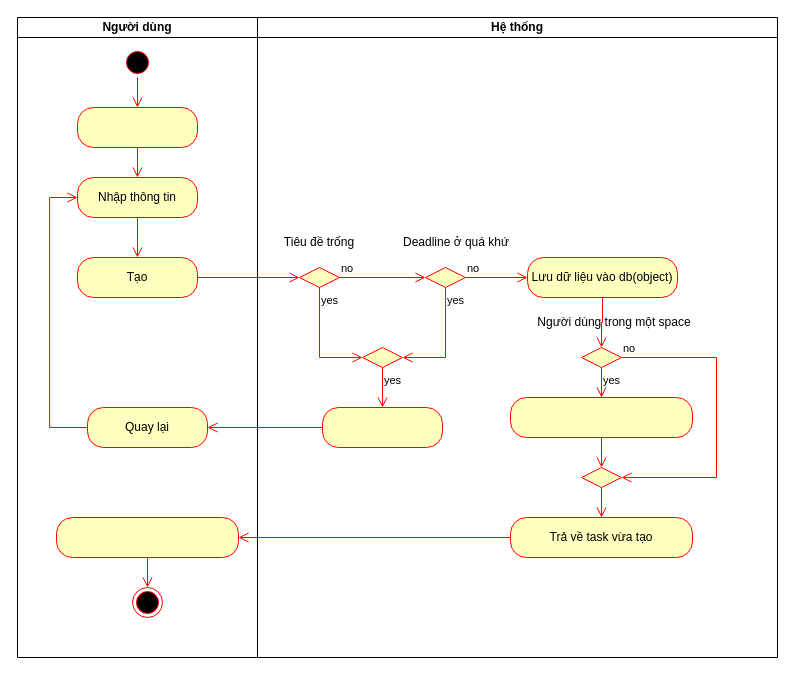
The diagram is 795 pixels wide and 675 high, and some of its shapes have lost their labels. The shapes that lost their labels are listed below. From the top down, each one's box as (x1, y1, x2, y2) in pixels, then its label:
(76, 106, 198, 148): Tạo task
(322, 406, 442, 448): Lỗi
(510, 396, 692, 438): Lưu dữ liệu vào db(spaceobject)
(56, 516, 238, 558): Hiển thị task trong danh sách
